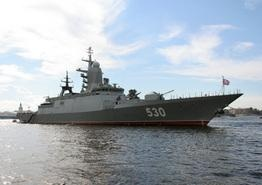warship: (13, 46, 245, 125)
